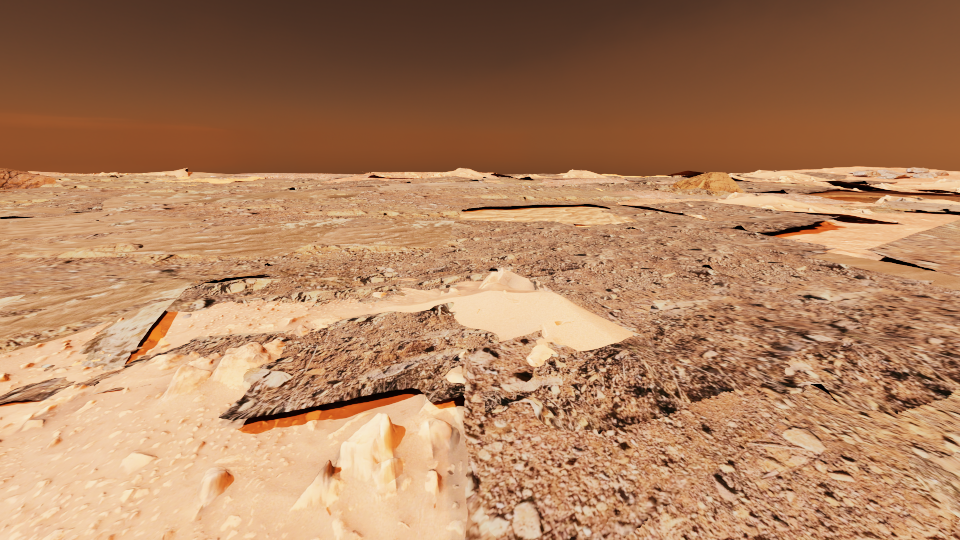bedrock: (8, 205, 959, 427), (75, 302, 499, 420), (269, 176, 553, 191), (554, 175, 731, 198), (0, 197, 113, 218), (735, 181, 836, 202), (0, 377, 74, 403), (831, 198, 959, 213), (453, 192, 637, 202), (295, 208, 461, 219), (794, 172, 896, 184), (39, 183, 190, 189), (243, 174, 366, 181), (212, 204, 319, 210), (55, 177, 168, 181), (923, 245, 959, 256), (132, 189, 204, 192), (93, 387, 124, 393), (735, 174, 764, 179), (934, 531, 952, 539), (41, 364, 59, 371), (235, 183, 276, 185), (322, 192, 356, 194), (369, 241, 398, 243), (536, 174, 563, 176)
hole: (820, 195, 881, 201)
rocks: (673, 172, 742, 192), (0, 168, 55, 189), (848, 167, 948, 178)
sand: (0, 189, 454, 255), (756, 202, 959, 289), (0, 281, 193, 370), (459, 204, 636, 226), (787, 166, 959, 188), (908, 451, 959, 517), (150, 172, 284, 182), (304, 172, 416, 182), (0, 207, 67, 215), (861, 191, 959, 195), (951, 431, 959, 444), (243, 274, 269, 278), (826, 188, 857, 191), (482, 173, 498, 178), (414, 172, 434, 174)
soil: (0, 298, 959, 539), (124, 270, 528, 364), (99, 175, 718, 233), (0, 248, 458, 297), (0, 181, 326, 199), (865, 220, 959, 277), (598, 285, 700, 327), (0, 226, 192, 243), (800, 184, 959, 201), (731, 177, 818, 189), (787, 177, 854, 189), (45, 172, 176, 178), (452, 220, 526, 228), (200, 173, 300, 178), (887, 187, 950, 193), (546, 342, 576, 354), (0, 309, 45, 317), (384, 179, 469, 183), (288, 326, 323, 335), (784, 208, 822, 214), (737, 192, 791, 196), (817, 198, 858, 203), (673, 212, 699, 218), (667, 172, 697, 177), (385, 174, 431, 177), (313, 174, 362, 176), (813, 221, 831, 224)
